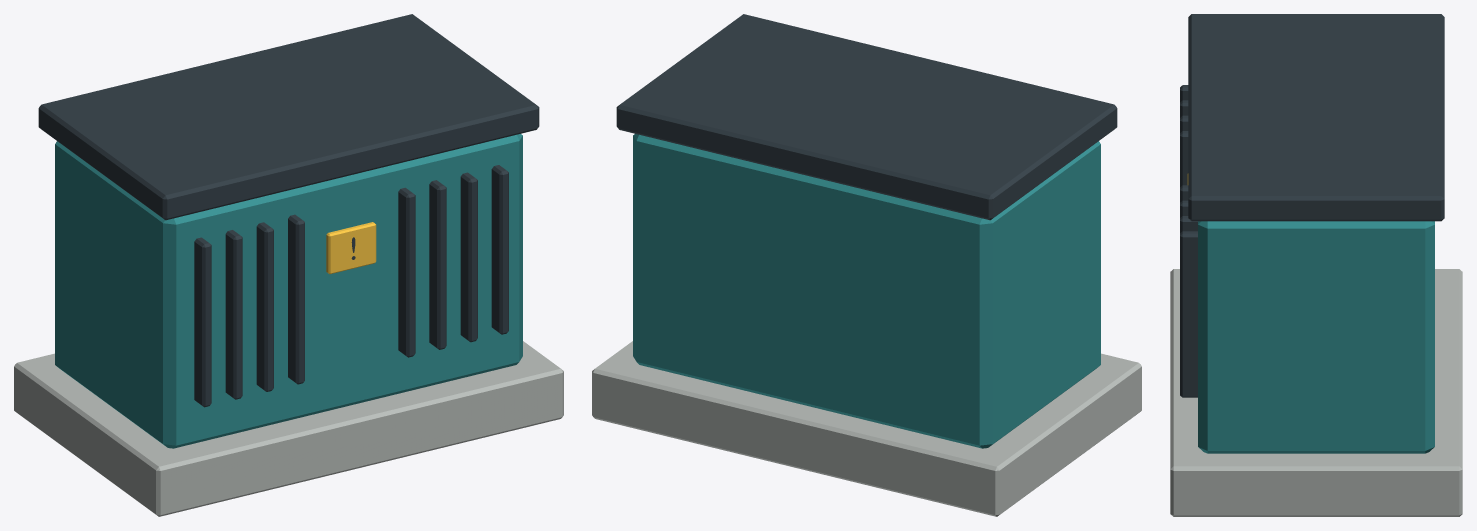
File: Transformer_Box.glb
3 renders of one model, left to right at view 1: azimuth 30°, elevation 25°; view 2: azimuth 150°, elevation 25°; view 3: azimuth 270°, elevation 25°, orthographic.
Visible parts, largest first — view 1: Transformer_Box; view 2: Transformer_Box; view 3: Transformer_Box.
Boxes of the visible parts, x1,y1,x2,y2 form: Transformer_Box: [14, 14, 563, 516]; Transformer_Box: [592, 14, 1141, 516]; Transformer_Box: [1170, 14, 1462, 516].
Size of the model in its own units: 1.7 by 1.24 by 1.05.
